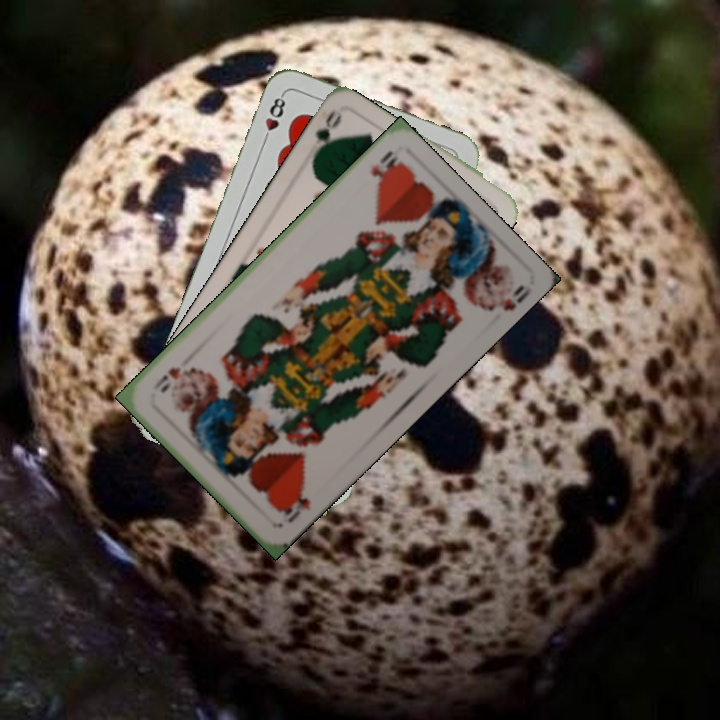GO: (308, 107, 345, 165)
H8: (259, 90, 289, 147)
HO: (275, 483, 313, 526), (366, 147, 404, 188)
